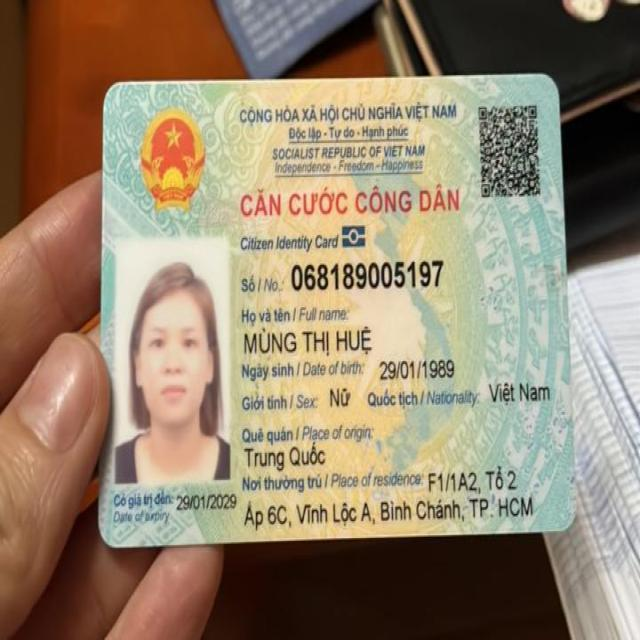bottom_left: (84, 514, 134, 562)
bottom_right: (542, 498, 587, 550)
image_person: (112, 240, 236, 480)
top_left: (89, 69, 134, 119)
top_right: (529, 61, 571, 106)
